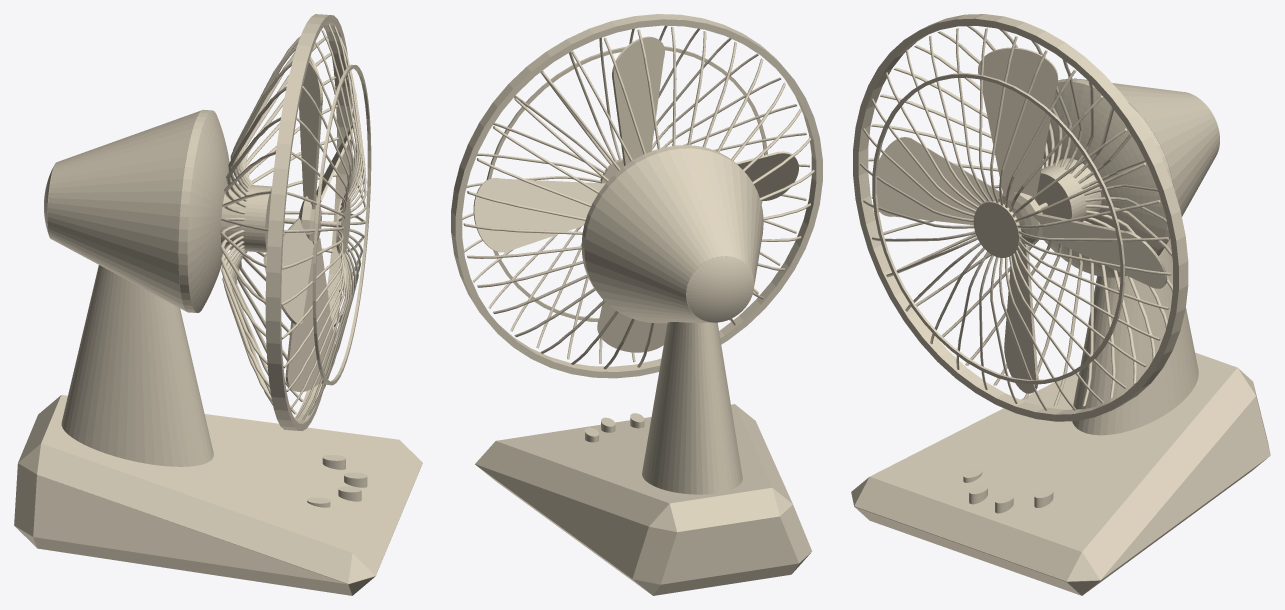
File: fan.fbx
3 views of the same model, side by side, from view 1: azimuth 30°, elevation 25°; view 2: azimuth 150°, elevation 25°; view 3: azimuth 270°, elevation 25° (orthographic). The views are drawn at different scales.
Parts seen in each view (by area): view 1: sub01, Object01, sub02; view 2: sub01, Object01, sub02; view 3: sub01, Object01, sub02.
Boxes of the visible parts, left/top/right/bottom form: sub01: left=44, top=36, right=367, bottom=507; Object01: left=14, top=395, right=422, bottom=595; sub02: left=220, top=14, right=371, bottom=501; sub01: left=462, top=26, right=811, bottom=494; Object01: left=475, top=404, right=812, bottom=595; sub02: left=451, top=14, right=822, bottom=428; sub01: left=860, top=28, right=1219, bottom=513; Object01: left=851, top=352, right=1270, bottom=595; sub02: left=853, top=14, right=1188, bottom=504.
Bounding box in the file's own units: 295 × 381 × 284.
